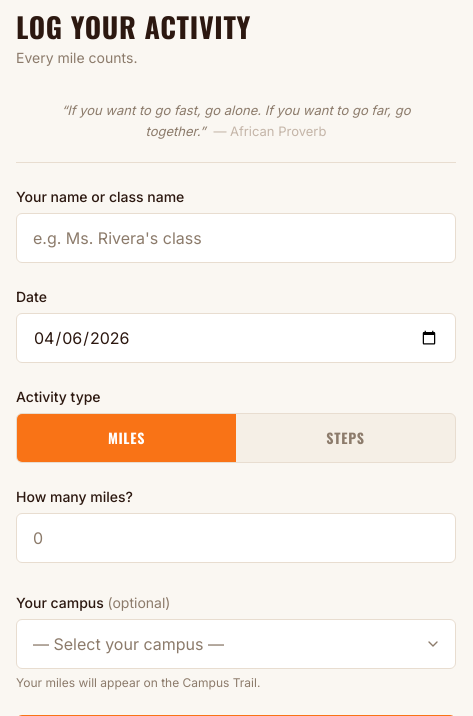
LogPage › step conversion preview › shows the steps hint when Steps mode is active
What coordinates should you click on to do the following:
click the radio button labelled "steps"
I would click on:
 (346, 438)
Its box is [236, 414, 455, 462].
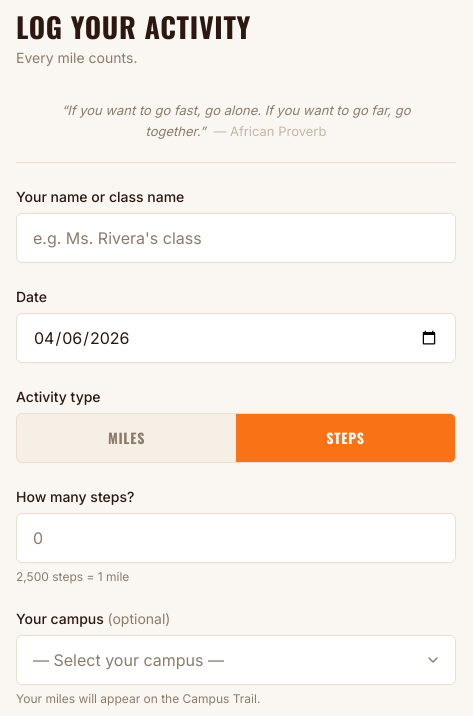
expect the text "2,500 steps = 1 mile" is shown: met, box [16, 569, 129, 584]
